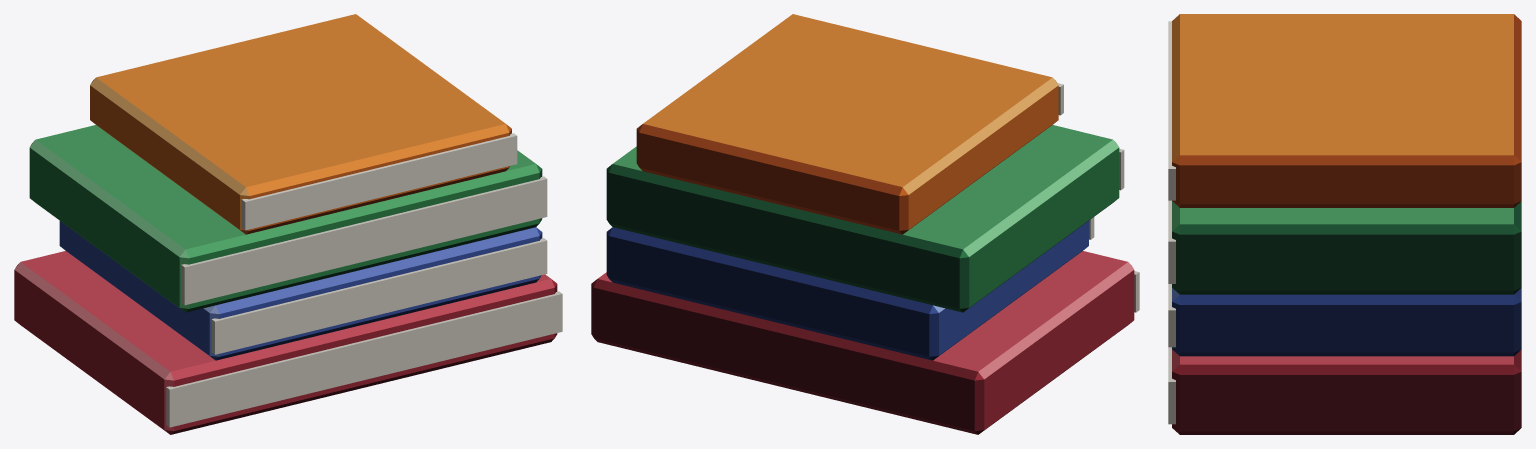
File: book_stack.glb
3 renders of one model, left to right at view 1: azimuth 30°, elevation 25°; view 2: azimuth 150°, elevation 25°; view 3: azimuth 270°, elevation 25°, orthographic. The views are drawn at different scales.
Visible parts, largest first — view 1: book_stack; view 2: book_stack; view 3: book_stack.
Part boxes in pixels (x1,y1,x2,y2): book_stack: (14,14,562,434); book_stack: (591,14,1139,434); book_stack: (1168,14,1521,434).
Size of the model in its own units: 0.26 by 0.145 by 0.182.
